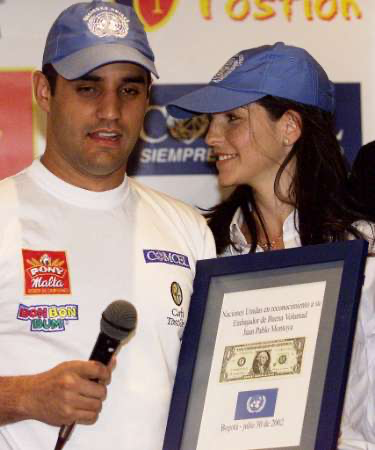Face: (58, 63, 150, 180), (197, 100, 267, 189)
